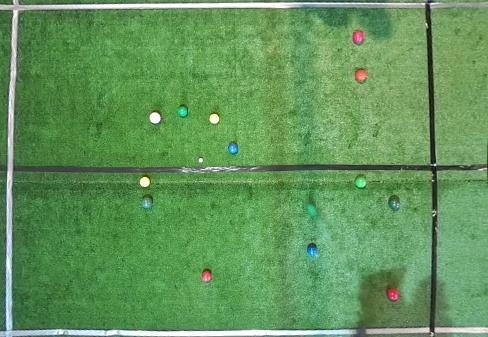blue: (307, 244, 317, 257), (228, 142, 238, 154)
green: (388, 198, 400, 211), (141, 197, 153, 209), (354, 176, 366, 188), (305, 204, 316, 216), (177, 106, 188, 117)
red: (352, 31, 365, 45), (387, 287, 399, 302), (149, 111, 161, 125), (355, 69, 367, 83), (201, 270, 212, 282)
vline: (424, 0, 487, 336), (0, 0, 20, 336)
white: (198, 158, 203, 163)
yellow: (209, 113, 220, 125), (140, 176, 150, 188)
